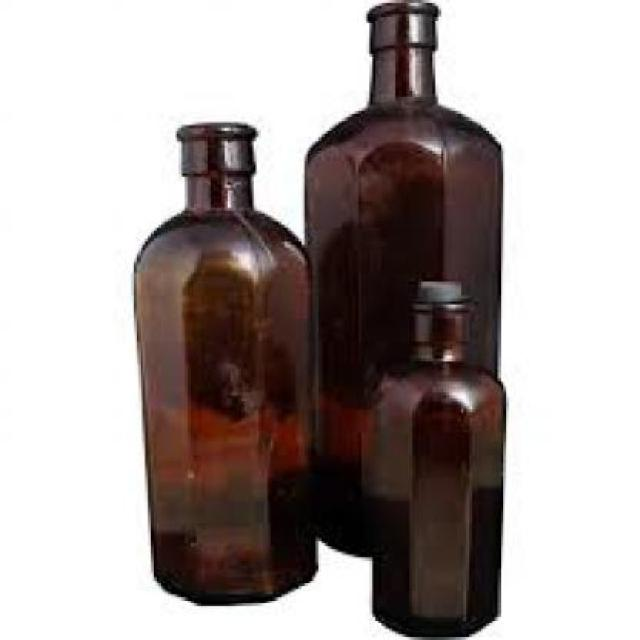kaca: (301, 0, 500, 555), (128, 120, 315, 603), (362, 295, 503, 637)
